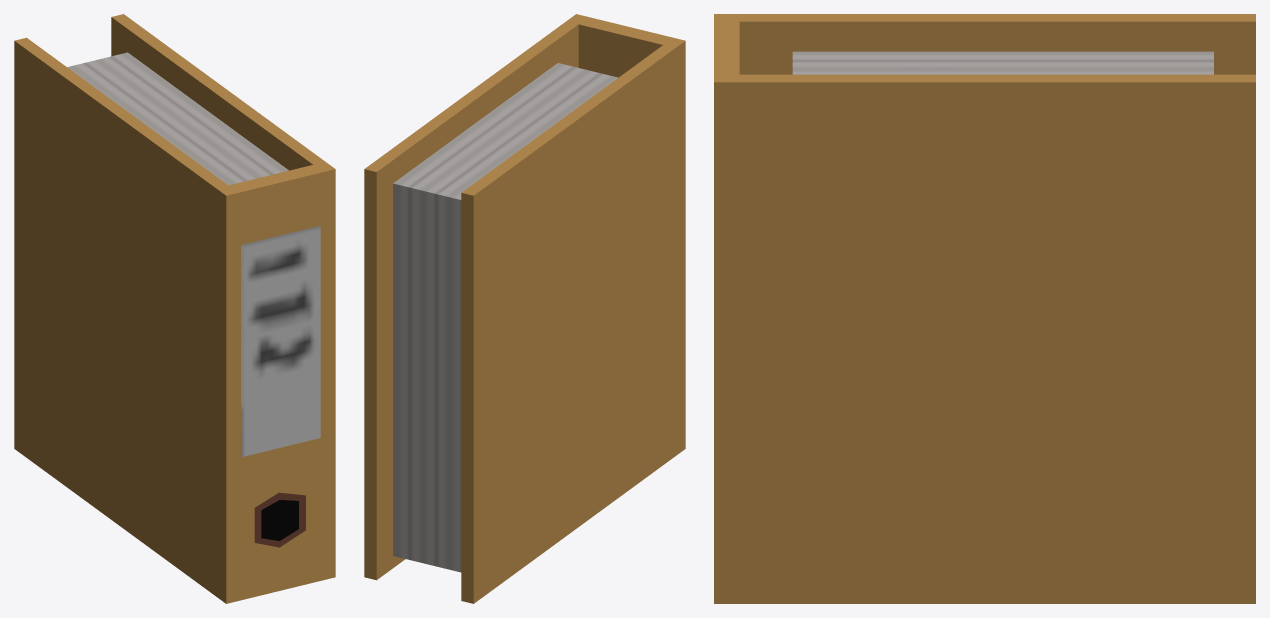
The model's file is SM_Prop_Folder_PVC_01.glb.
3 views of the same model, side by side, from view 1: azimuth 30°, elevation 25°; view 2: azimuth 150°, elevation 25°; view 3: azimuth 270°, elevation 25° (orthographic). The views are drawn at different scales.
Parts seen in each view (by area): view 1: SM_Prop_Folder_PVC_01; view 2: SM_Prop_Folder_PVC_01; view 3: SM_Prop_Folder_PVC_01.
Boxes of the visible parts, bbox=[...] form: SM_Prop_Folder_PVC_01: bbox=[14, 14, 335, 603]; SM_Prop_Folder_PVC_01: bbox=[364, 14, 685, 603]; SM_Prop_Folder_PVC_01: bbox=[714, 14, 1255, 603].
Bounding box in the file's own units: 0.113 × 0.4029 × 0.3791.
Materials: 1 (1 with a texture image).
